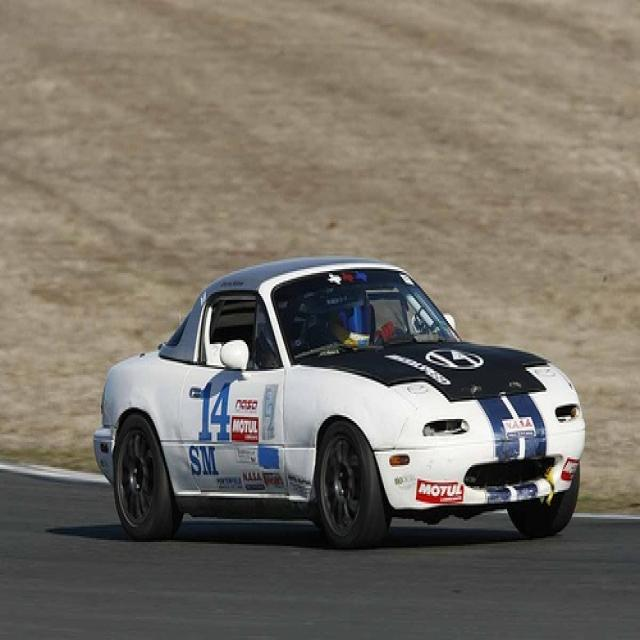car: (92, 254, 585, 536)
